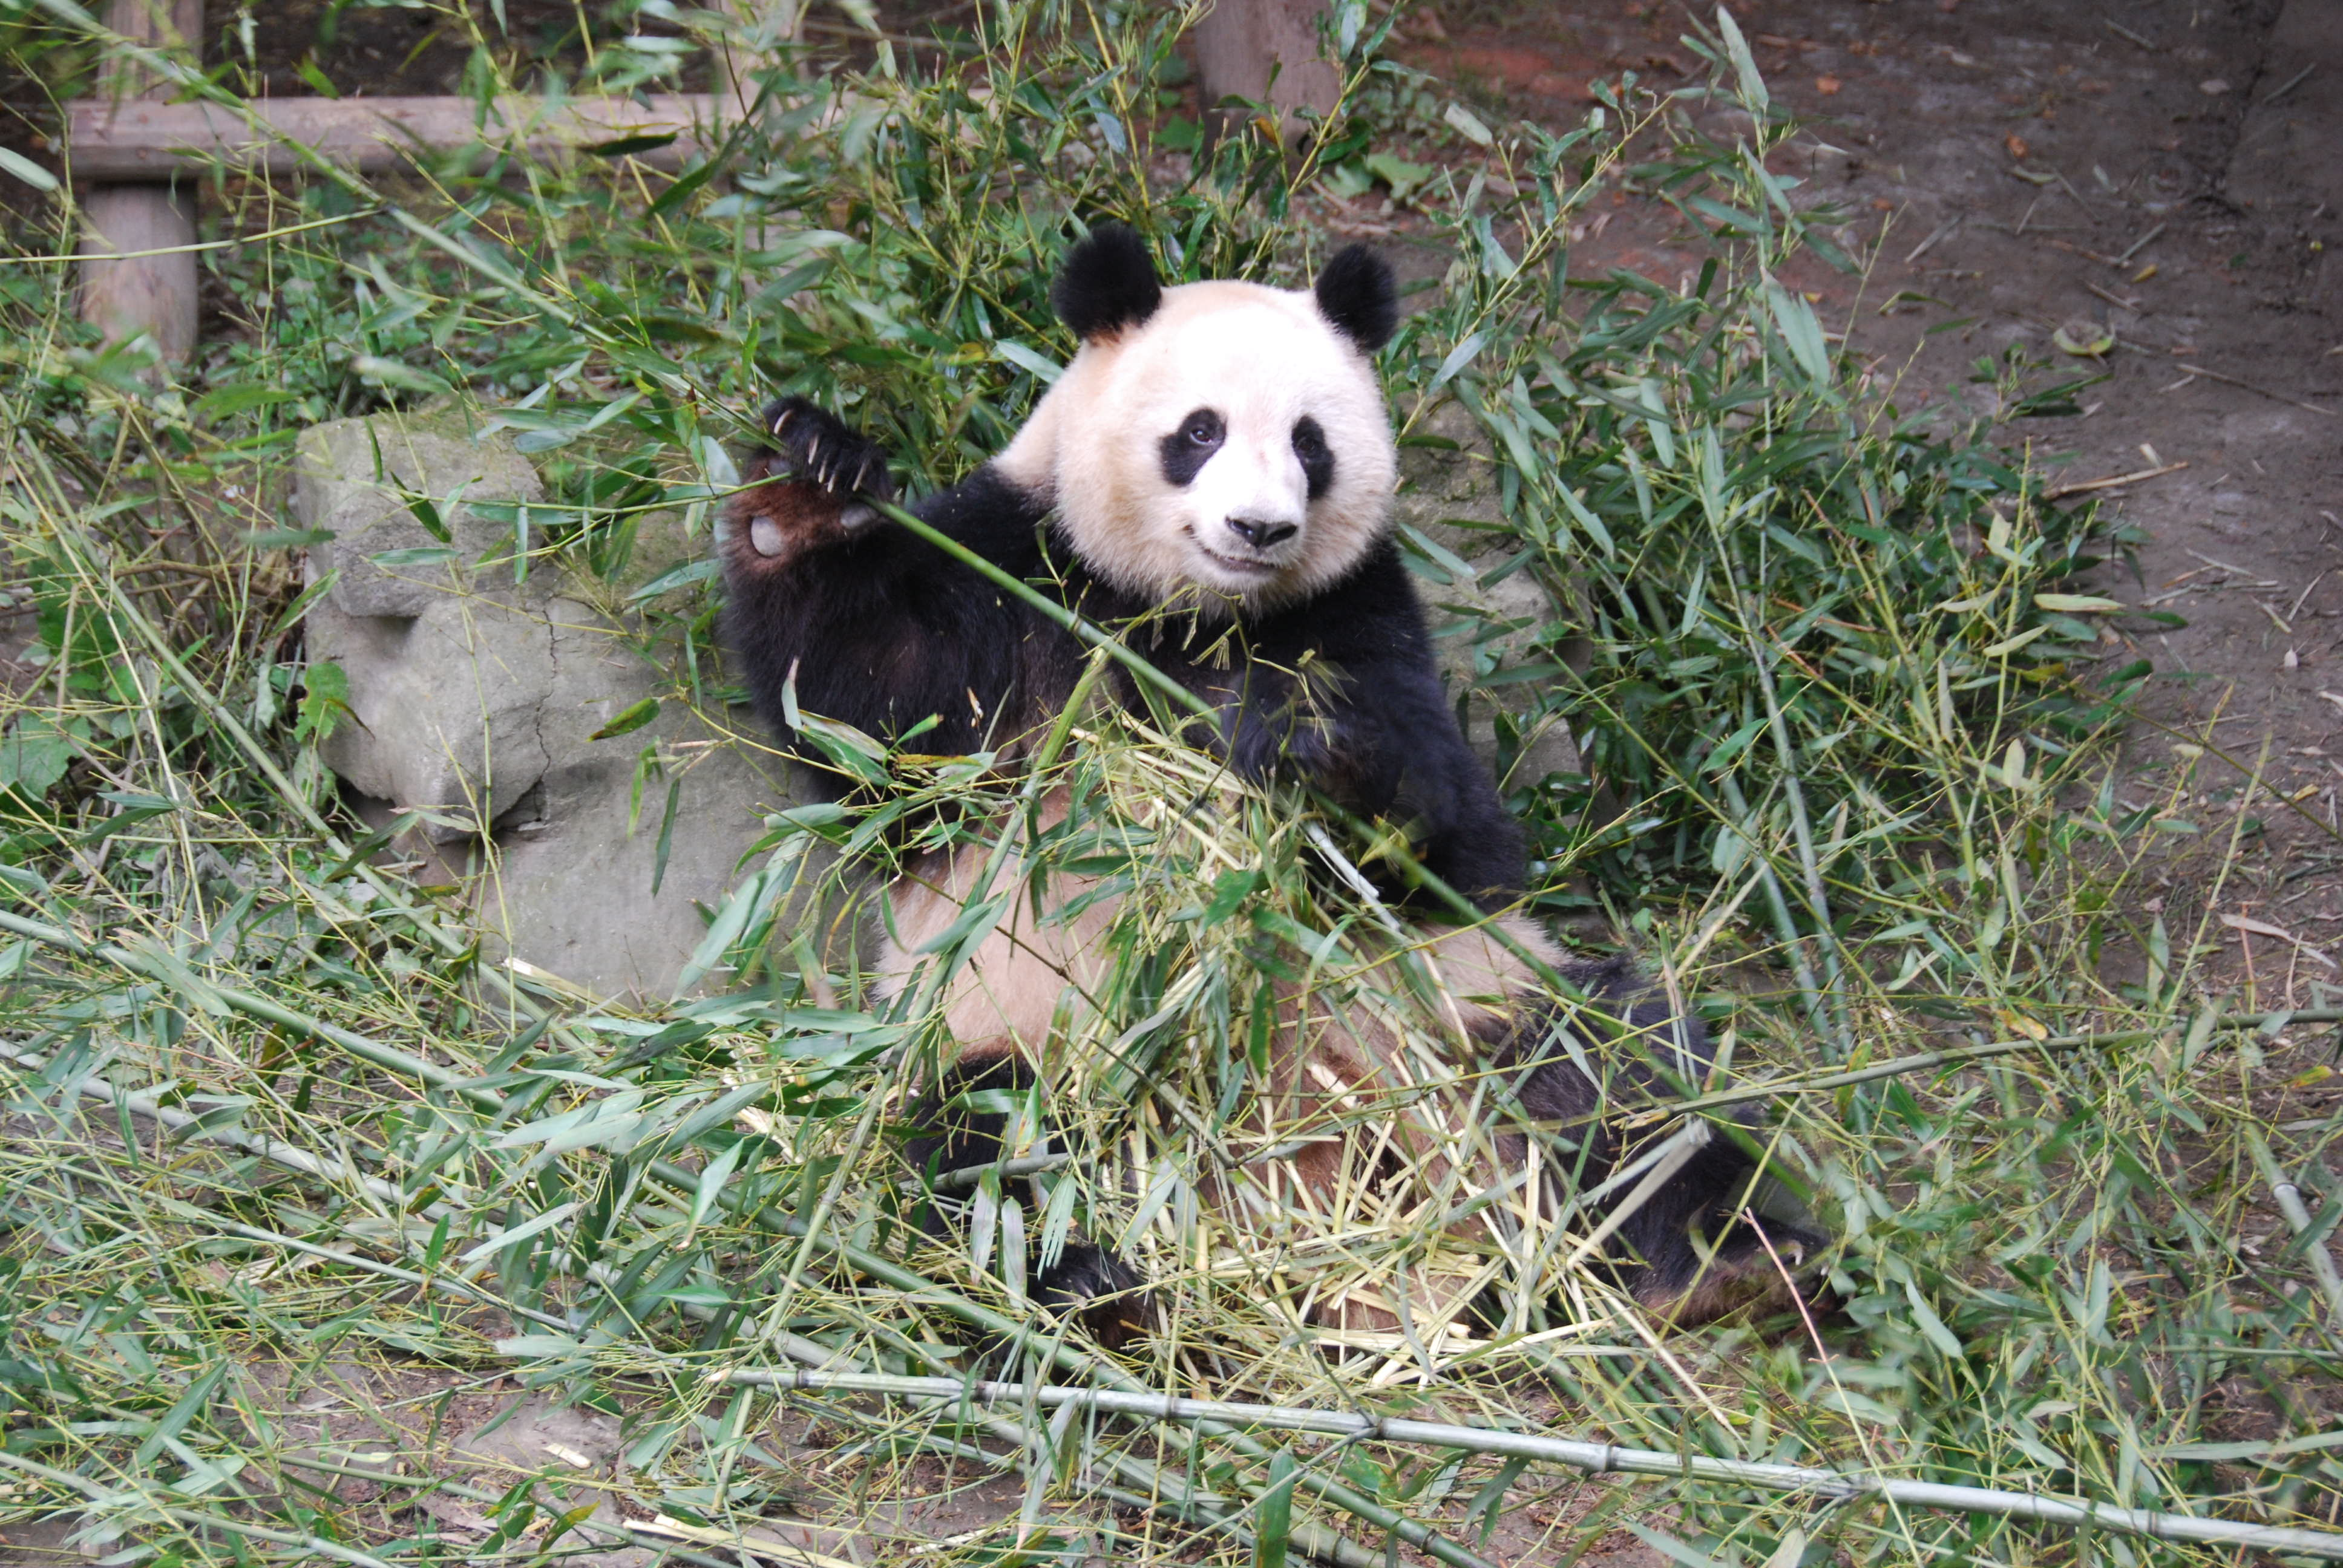panda: (661, 227, 2032, 1407)
